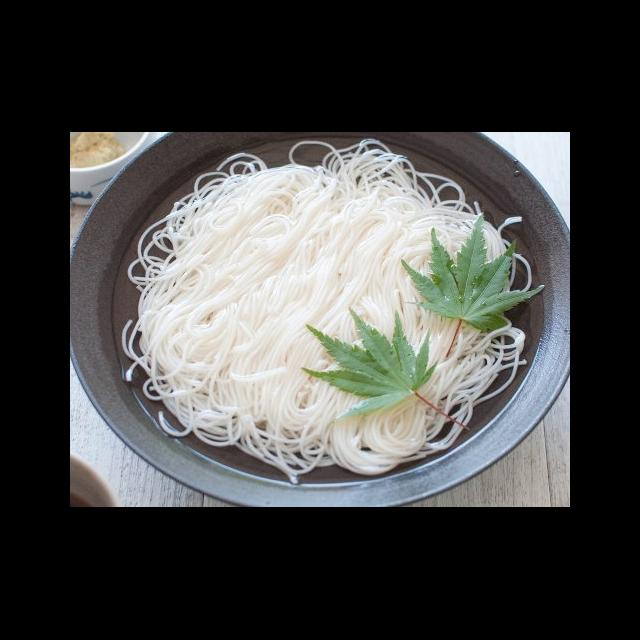noodles: (153, 164, 507, 464)
